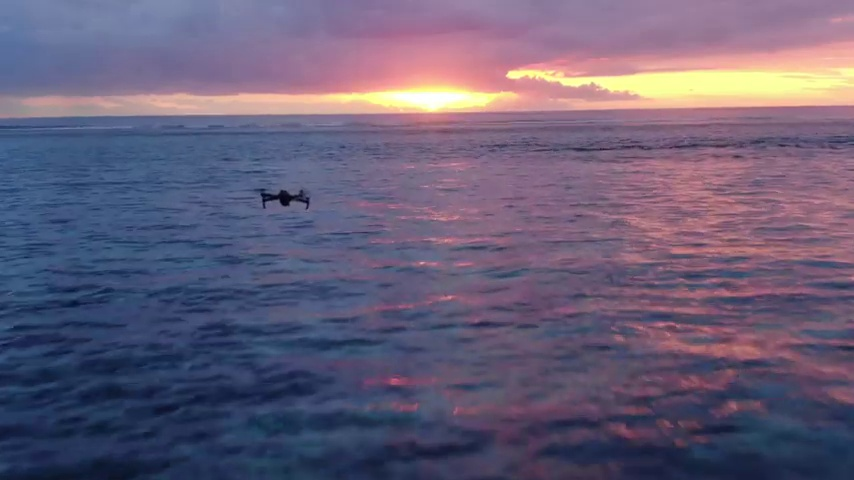drone: (261, 187, 311, 209)
